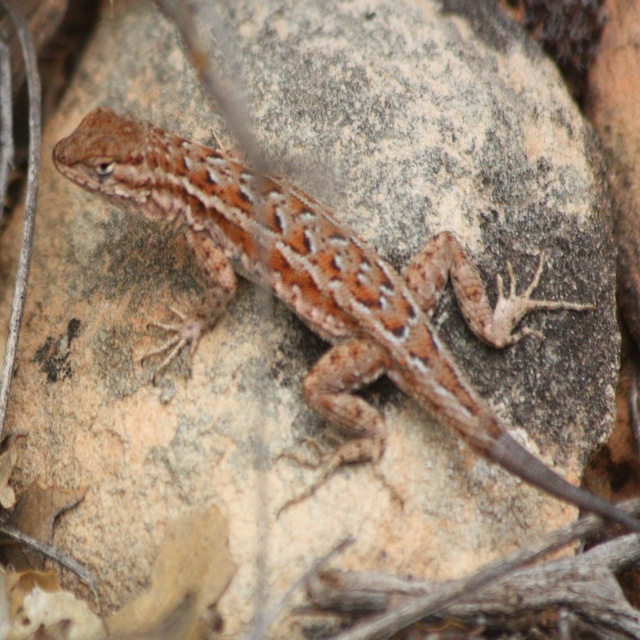Lizard: (49, 104, 639, 530)
